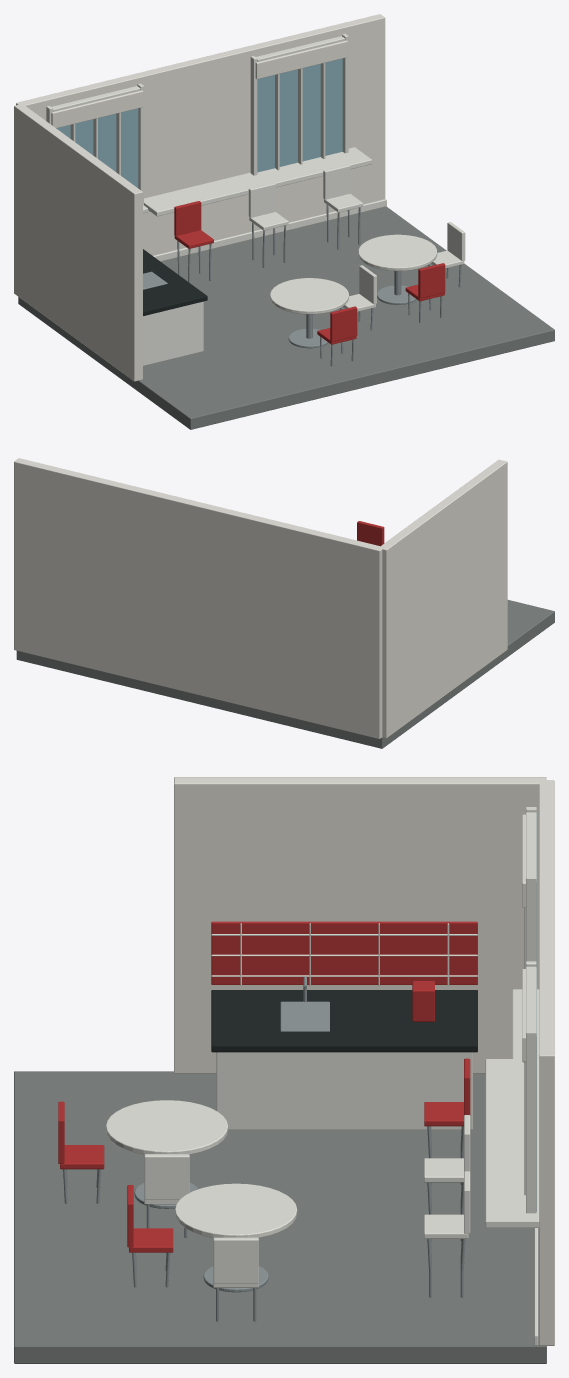
The model's file is sar-interior-4a099bcd8062.glb.
3 renders of one model, top to bottom at view 1: azimuth 30°, elevation 25°; view 2: azimuth 150°, elevation 25°; view 3: azimuth 270°, elevation 25°, orthographic. The views are drawn at different scales.
Visible parts, largest first — view 1: SAR.001; view 2: SAR.001; view 3: SAR.001.
Part boxes in pixels (left/top/right/bottom): SAR.001: left=14, top=14, right=554, bottom=429; SAR.001: left=14, top=458, right=554, bottom=748; SAR.001: left=14, top=777, right=554, bottom=1363.
Size of the model in its own units: 6.68 by 3.45 by 5.48.
